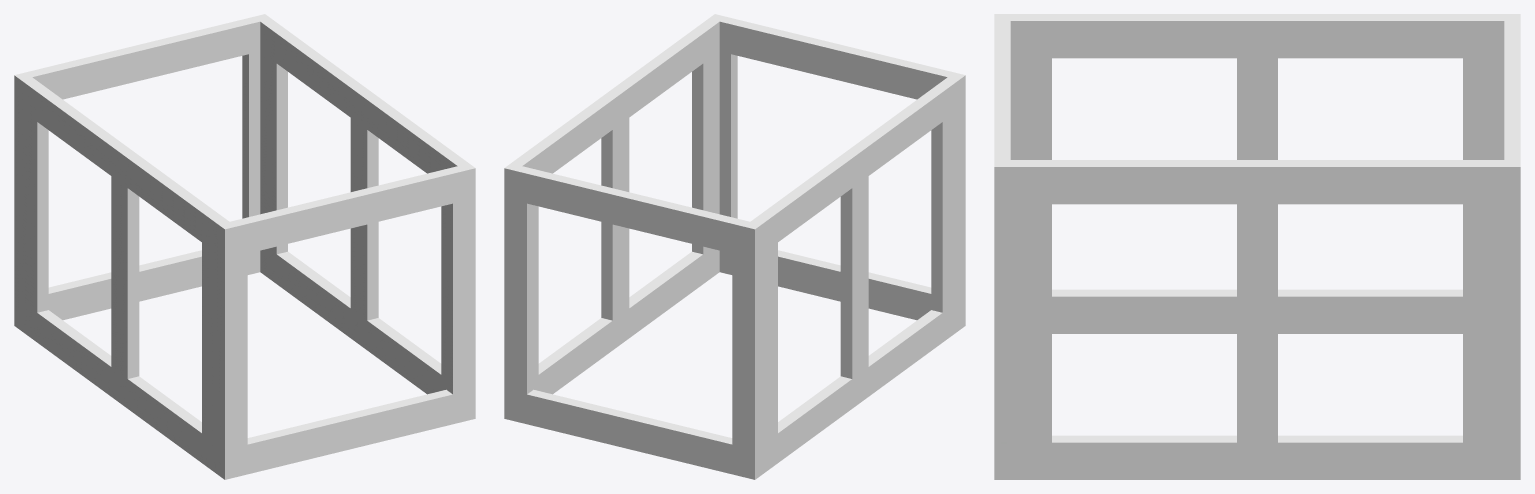
Rendered from Torokko_Frame.FBX.
3 views of the same model, side by side, from view 1: azimuth 30°, elevation 25°; view 2: azimuth 150°, elevation 25°; view 3: azimuth 270°, elevation 25° (orthographic). The views are drawn at different scales.
Parts seen in each view (by area): view 1: Box005, Box004, Box003, Box006; view 2: Box006, Box004, Box003, Box005; view 3: Box003, Box004, Box005, Box006.
Boxes of the visible parts, x1,y1,x2,y2 form: Box005: (218,163,475,479); Box004: (20,77,229,474); Box003: (260,19,468,394); Box006: (14,14,271,329); Box006: (504,163,761,479); Box004: (750,77,959,474); Box003: (511,19,719,394); Box005: (708,14,965,329); Box003: (1010,160,1504,479); Box004: (1010,14,1504,333); Box005: (994,14,1010,479); Box006: (1504,14,1520,479).
Size of the model in its own units: 44 by 42 by 64.
